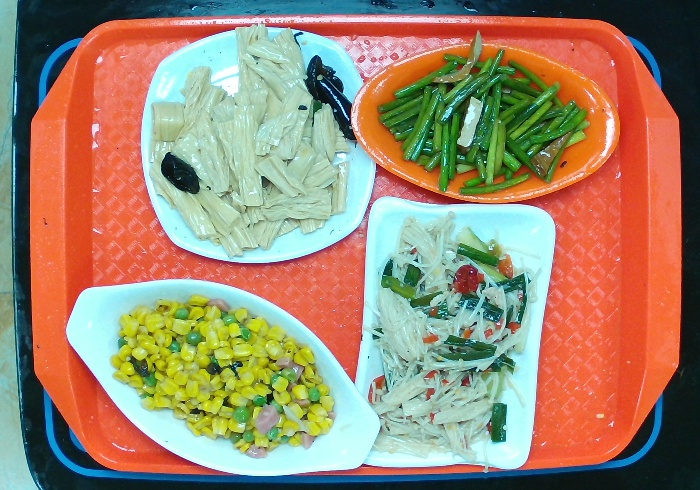RJxy-Ju_Huang_Tuo_Yuan: (349, 41, 622, 204)
RJxy-Si_Fang_Ao_Bian_Wan: (353, 194, 558, 471)
RJxy-Si_Fang_Die: (139, 24, 378, 266)
RJxy-Yu_Pan: (64, 277, 382, 476)
